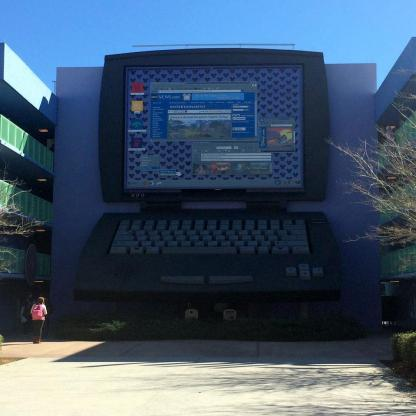board: (67, 52, 350, 331)
